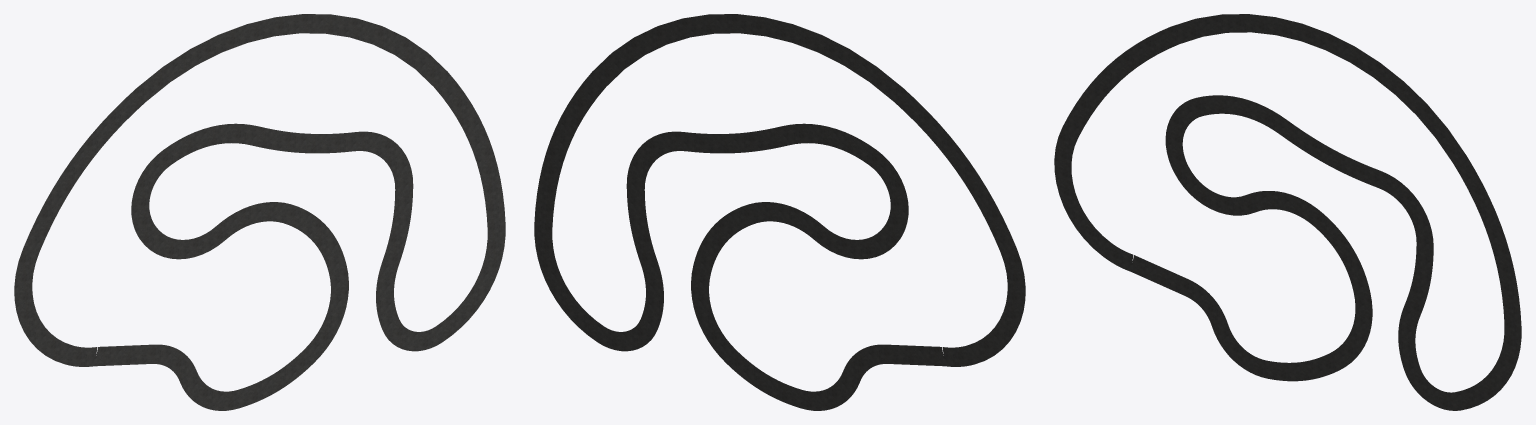
The model's file is track3_road.obj.
3 renders of one model, left to right at view 1: azimuth 30°, elevation 25°; view 2: azimuth 150°, elevation 25°; view 3: azimuth 330°, elevation 25°, orthographic. The views are drawn at different scales.
Visible parts, largest first — view 1: road_0_curve_; view 2: road_0_curve_; view 3: road_0_curve_.
Boxes of the visible parts, left/top/right/bottom form: road_0_curve_: left=14, top=14, right=505, bottom=410; road_0_curve_: left=534, top=14, right=1025, bottom=410; road_0_curve_: left=1054, top=14, right=1521, bottom=410.
Bounding box in the file's own units: 44.55 × 33.13 × 0.
Materials: 1 (1 with a texture image).
